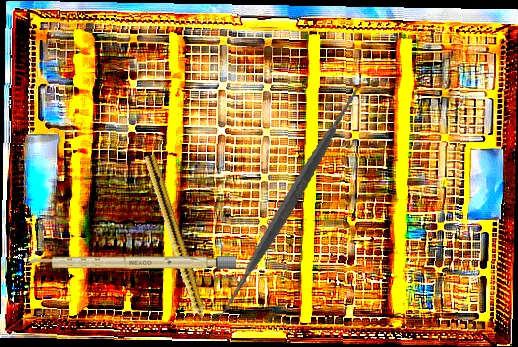Handpiece: (140, 153, 213, 335)
Scalpel Handle: (27, 256, 236, 269)
Spatula Surgical: (173, 82, 408, 318)
